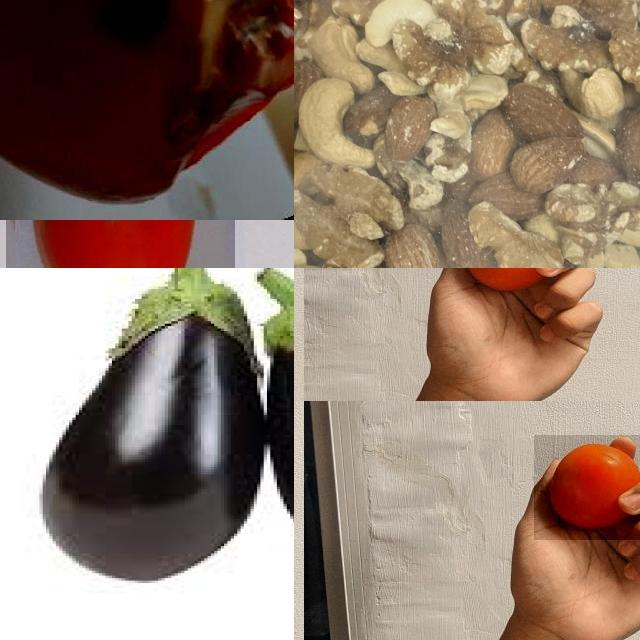eggplant: (47, 269, 258, 581)
tomato: (6, 221, 236, 269), (535, 436, 640, 541)
